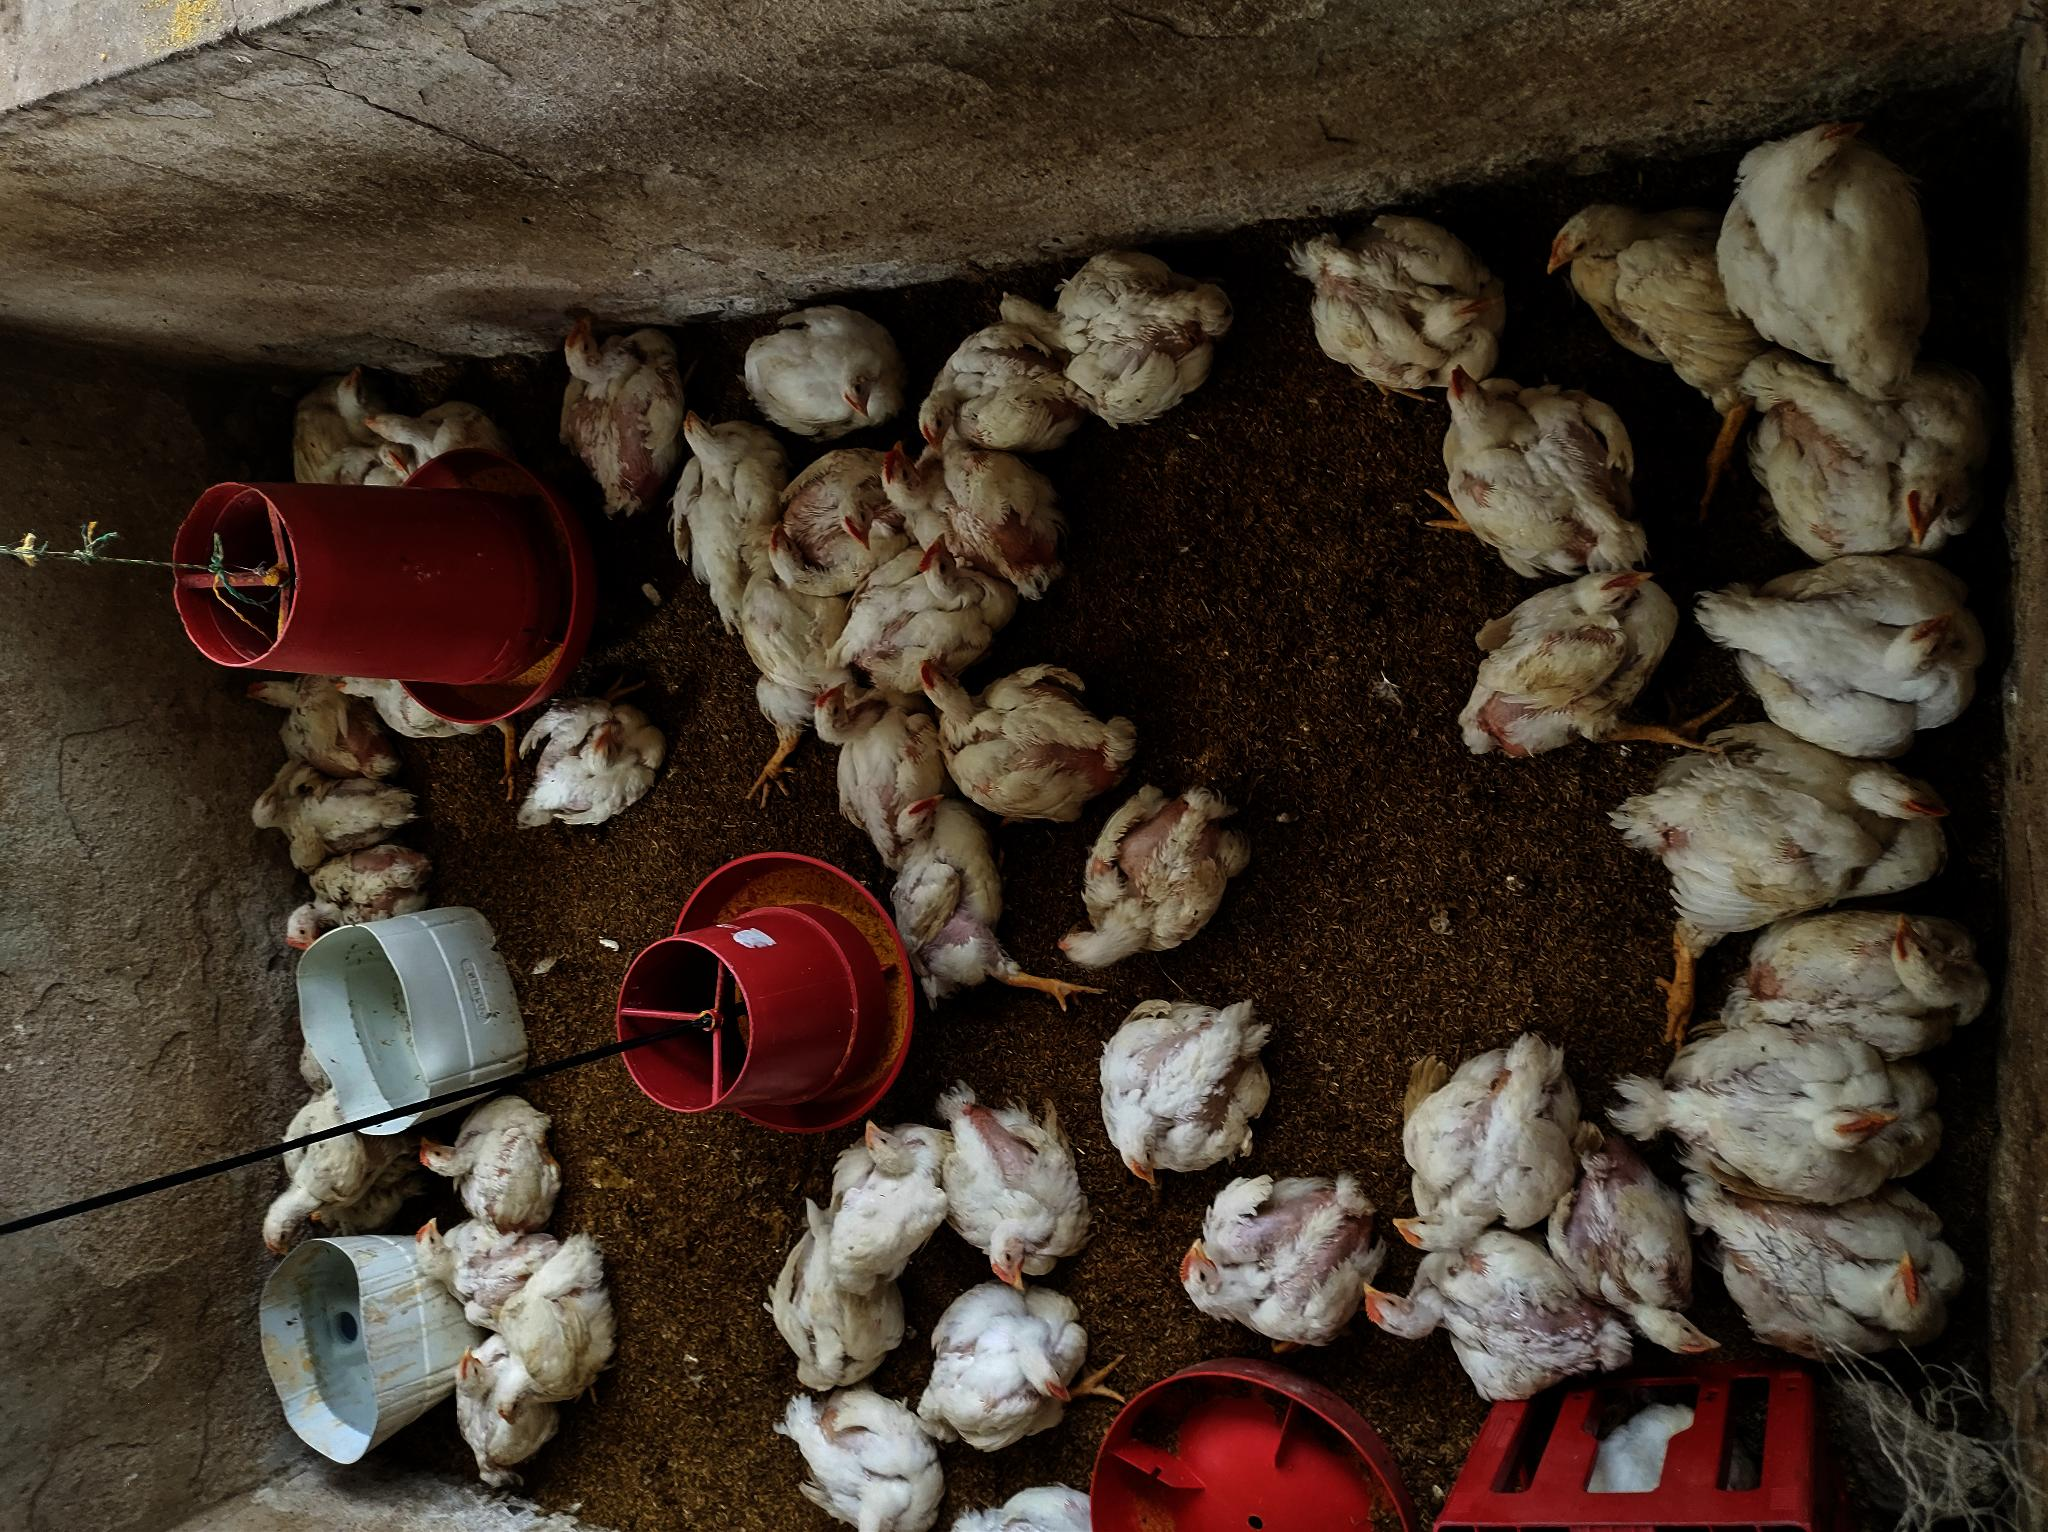Pollos: (1601, 723, 1955, 949), (1702, 97, 1956, 391), (1614, 1014, 1951, 1209), (1532, 188, 1768, 436), (1691, 544, 1982, 743), (1684, 1162, 1968, 1357), (1404, 344, 1646, 566), (1726, 341, 1968, 558), (1343, 1226, 1635, 1389), (1450, 562, 1672, 764), (1717, 903, 1997, 1056), (986, 253, 1229, 428), (1548, 1139, 1729, 1368), (1388, 1036, 1581, 1250), (1165, 1168, 1392, 1350), (914, 652, 1134, 822), (1051, 779, 1242, 975), (928, 1080, 1096, 1302), (1099, 991, 1284, 1191), (1293, 216, 1503, 389), (539, 306, 698, 521), (861, 789, 1026, 995), (722, 534, 843, 805), (880, 428, 1071, 595), (914, 1275, 1091, 1455), (750, 1382, 948, 1532), (766, 1197, 907, 1394), (251, 1081, 393, 1263), (840, 521, 1009, 673), (661, 401, 785, 603), (804, 677, 952, 845), (487, 1242, 632, 1411), (817, 1114, 956, 1289), (505, 698, 672, 842), (734, 304, 899, 447), (907, 317, 1084, 451), (410, 1089, 563, 1225), (236, 764, 426, 863), (273, 840, 426, 961), (767, 451, 893, 597), (444, 1329, 547, 1500), (405, 1207, 549, 1323), (236, 673, 407, 768), (282, 375, 413, 492), (327, 669, 475, 745), (362, 389, 492, 468)
